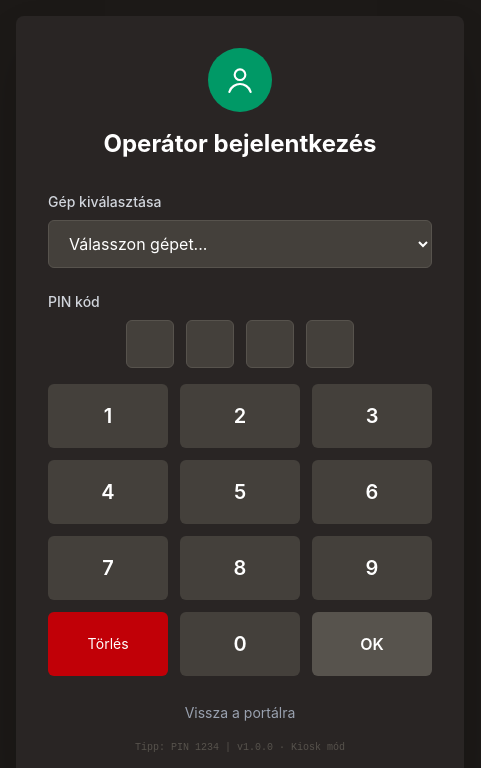
Test case: OperatorLoginScreen › shows error for wrong PIN
Select "Szabász gép #1" in the dropdown: (240, 244) [48,220,432,268]
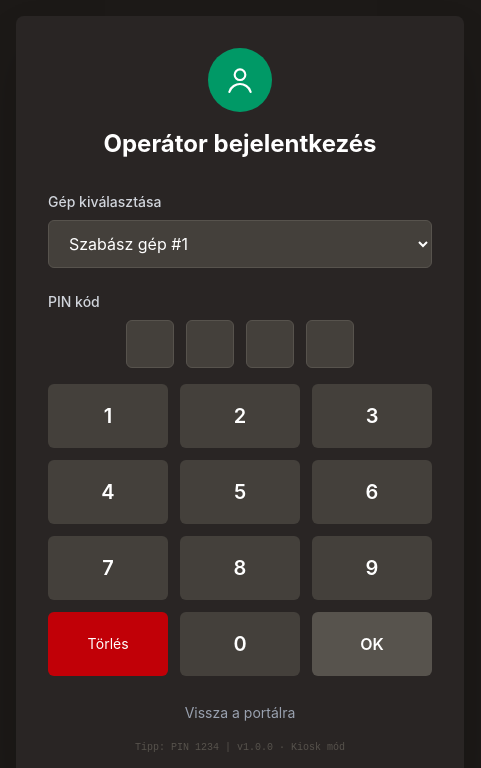
Click the button "9": (372, 568) [312,536,432,600]
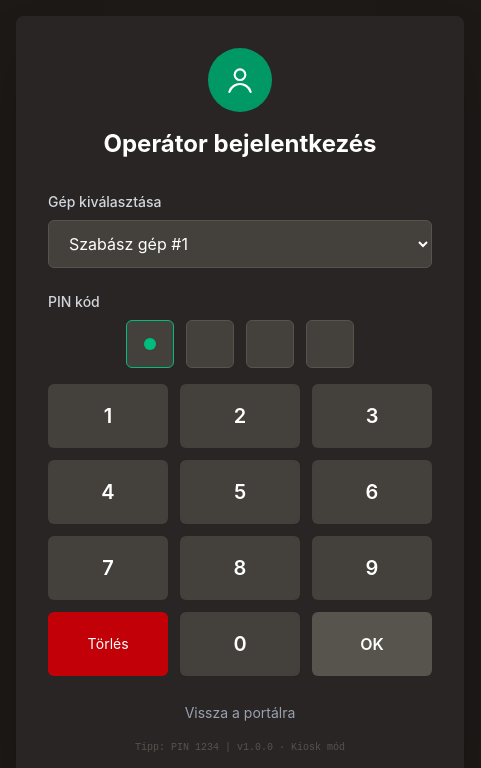
Click the button "9": (372, 568) [312,536,432,600]
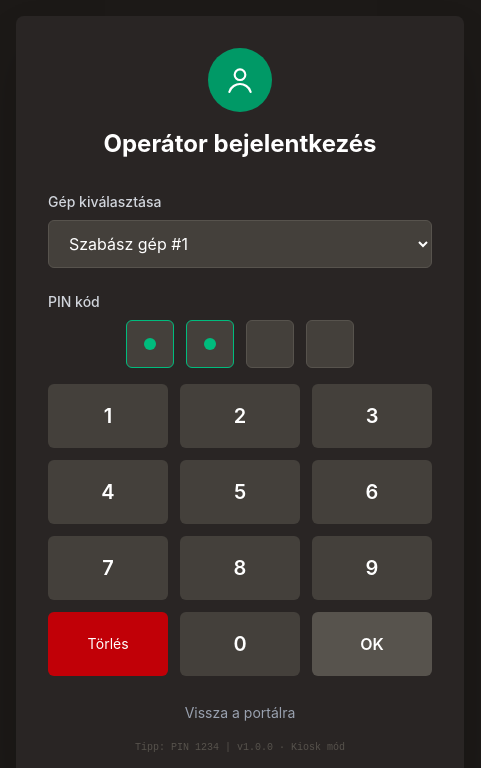
Click the button "9": (372, 568) [312,536,432,600]
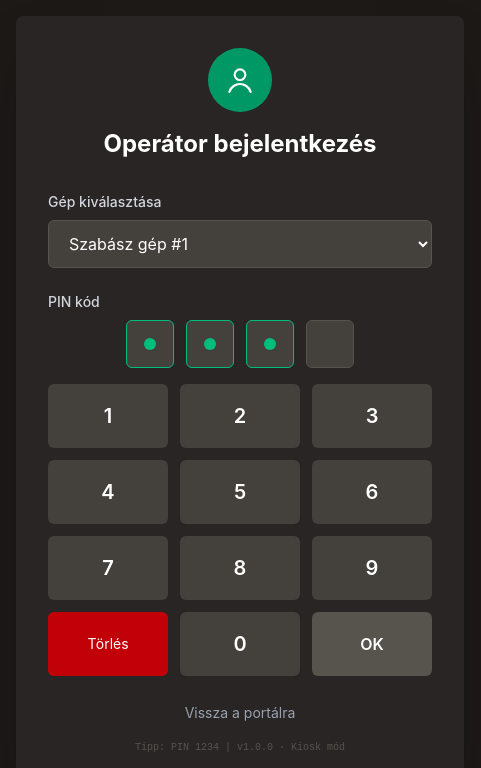
Click the button "9": (372, 568) [312,536,432,600]
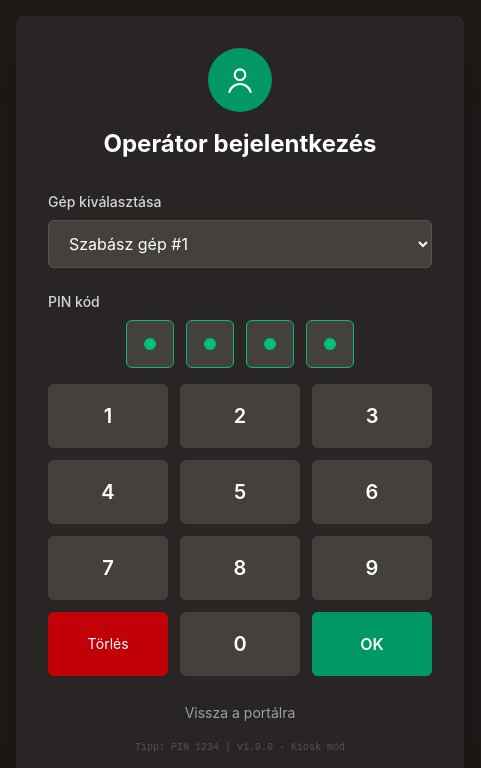
Click the button "OK": (372, 644) [312,612,432,676]
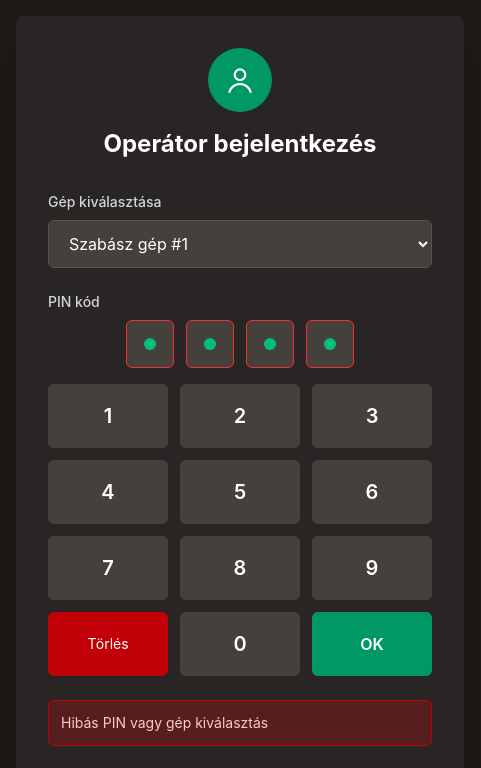
Expected: the text "Hibás PIN vagy gép kiválasztás" is shown, [48,700,432,746]
